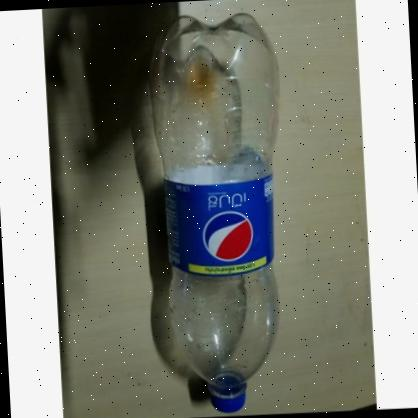bottle: (146, 11, 295, 418)
cap: (207, 384, 249, 414)
label: (160, 173, 278, 279)
